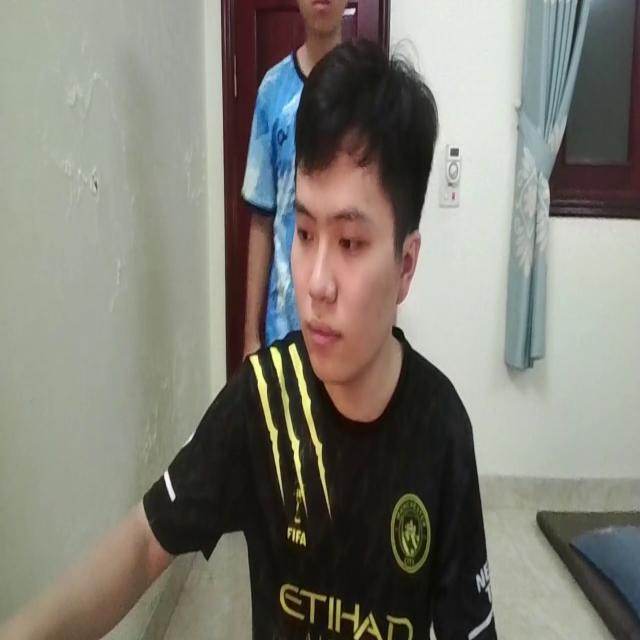extra_person: (241, 0, 341, 349)
student: (3, 39, 500, 640)
